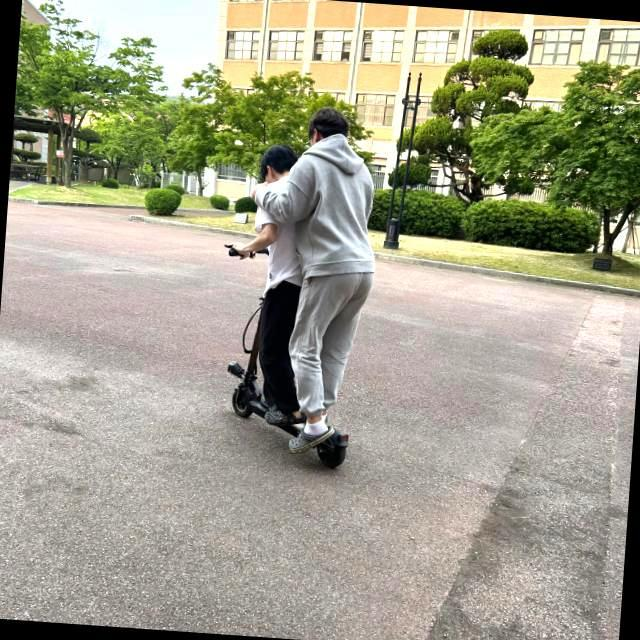bare_head: (307, 110, 353, 157), (247, 145, 302, 182)
human: (285, 112, 376, 447), (234, 148, 306, 427)
kickboard: (213, 358, 353, 466)
